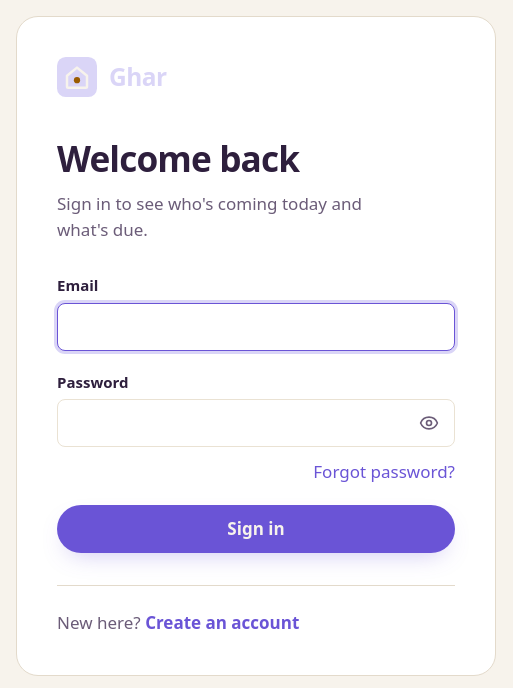
Scenario: SignInPage › shows an offline message when the network is down
The image size is (513, 688).
In the field labelled "Email": (256, 327) [57, 303, 455, 351], type "parakh@example.com"
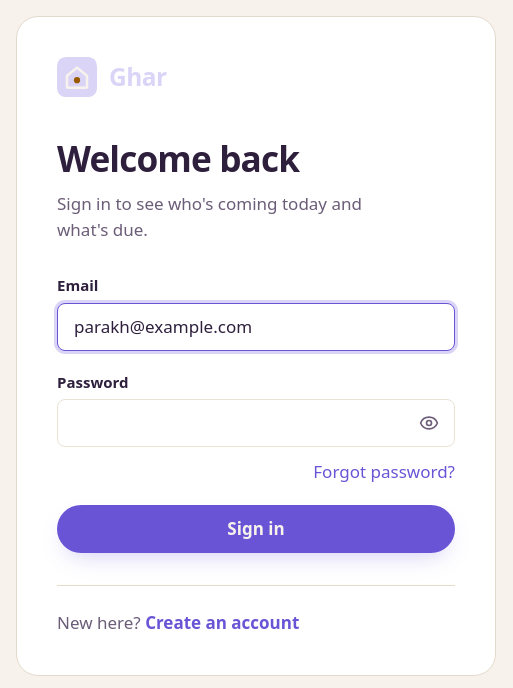
In the password field labelled "Password": (256, 423) [57, 399, 455, 447], type "whatever1"
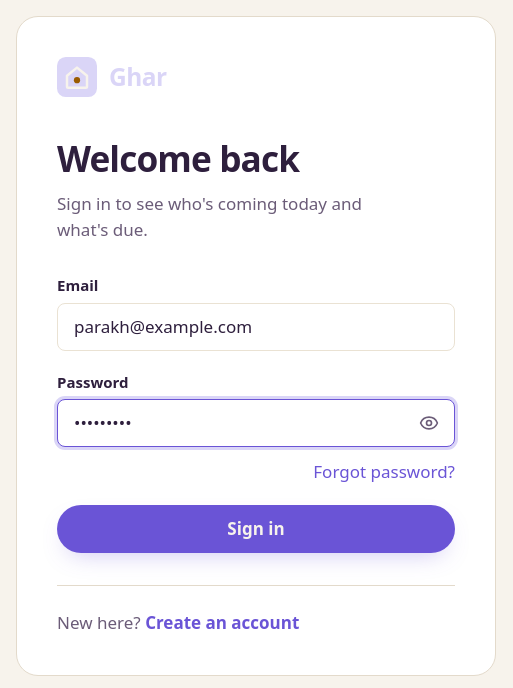
Click the button "Sign in": (256, 529) [57, 505, 455, 553]
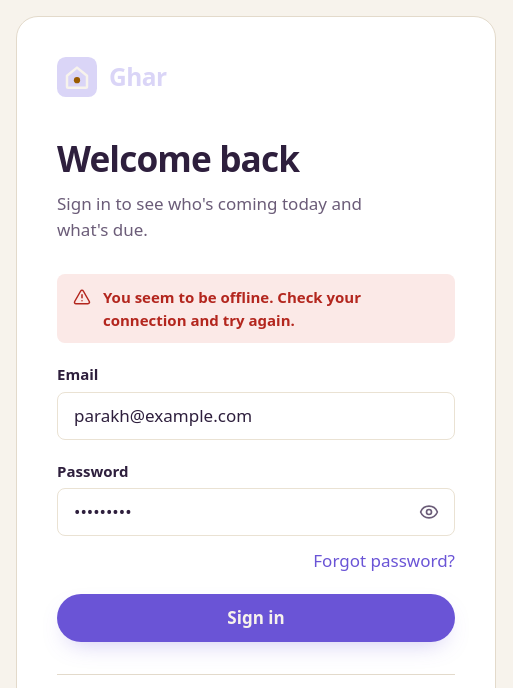
Expected: the message shows "offline", [103, 287, 361, 330]
